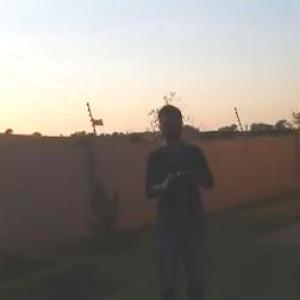follow: (137, 105, 219, 299)
